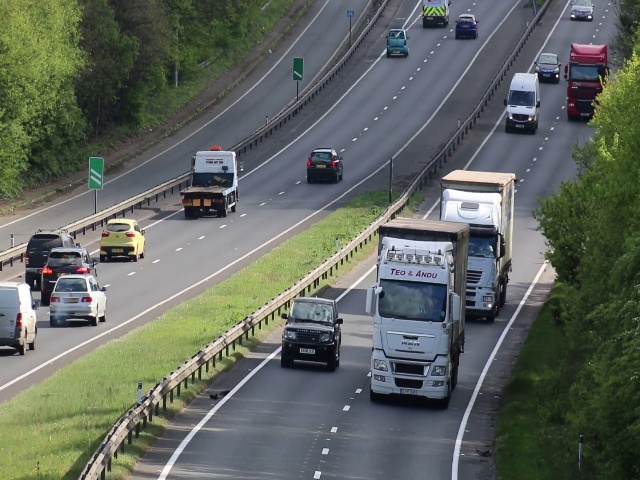car: (371, 251, 450, 411), (283, 292, 338, 375), (467, 199, 501, 324), (184, 149, 240, 215), (51, 276, 109, 329), (1, 281, 37, 355), (505, 73, 540, 136), (100, 217, 145, 262), (569, 51, 591, 126), (305, 146, 346, 185), (43, 252, 95, 278), (21, 234, 42, 288), (534, 52, 560, 84), (422, 1, 448, 27), (455, 12, 478, 41), (386, 28, 408, 57), (569, 1, 594, 22)
